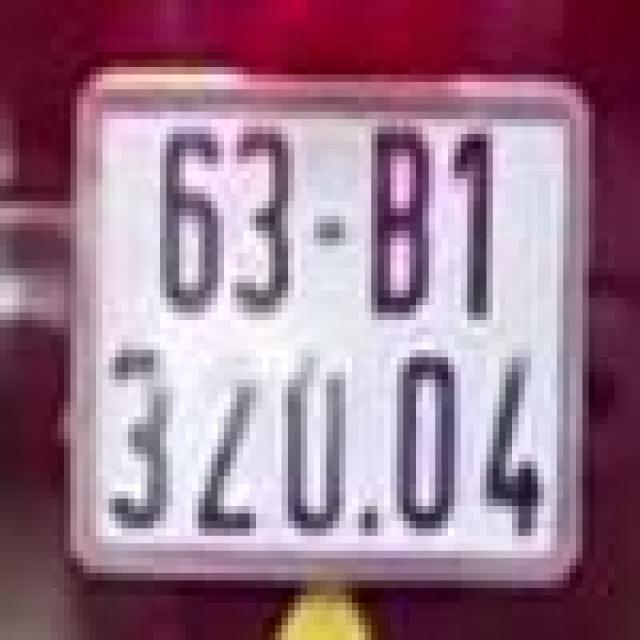0: (378, 327, 467, 551), (269, 338, 358, 540)
1: (445, 126, 515, 335)
2: (182, 338, 266, 540)
3: (86, 324, 170, 532), (230, 115, 301, 324)
4: (474, 331, 556, 555)
6: (157, 119, 227, 320)
B: (362, 108, 438, 331)
